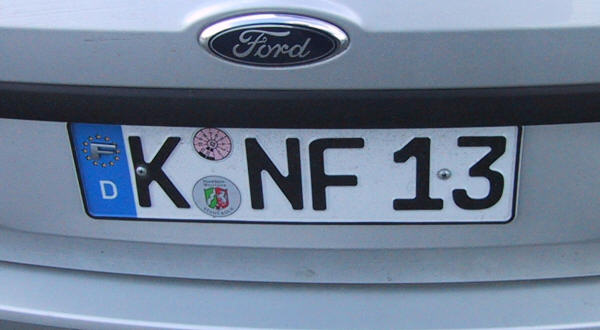license_plate: (66, 121, 524, 225)
